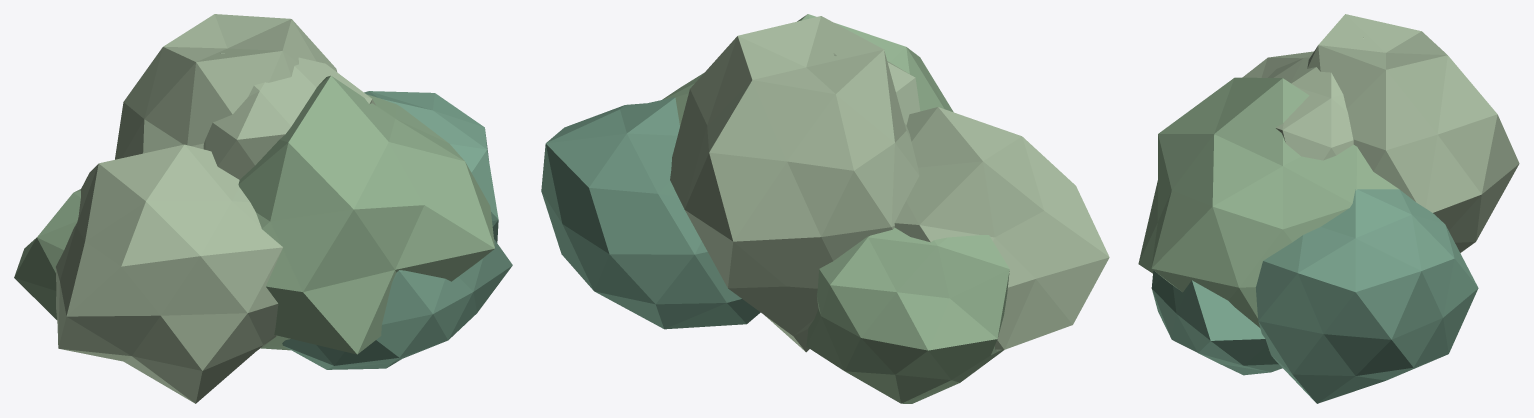
File: bush_round_a.glb
3 views of the same model, side by side, from view 1: azimuth 30°, elevation 25°; view 2: azimuth 150°, elevation 25°; view 3: azimuth 270°, elevation 25° (orthographic). The views are drawn at different scales.
Parts seen in each view (by area): view 1: bush_round_a; view 2: bush_round_a; view 3: bush_round_a.
Boxes of the visible parts, left/top/right/bottom form: bush_round_a: left=14, top=14, right=512, bottom=403; bush_round_a: left=541, top=14, right=1109, bottom=403; bush_round_a: left=1138, top=14, right=1519, bottom=403.
Bounding box in the file's own units: 1.74 × 1.1 × 1.26.
